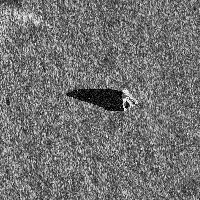mine: (64, 85, 139, 112)
